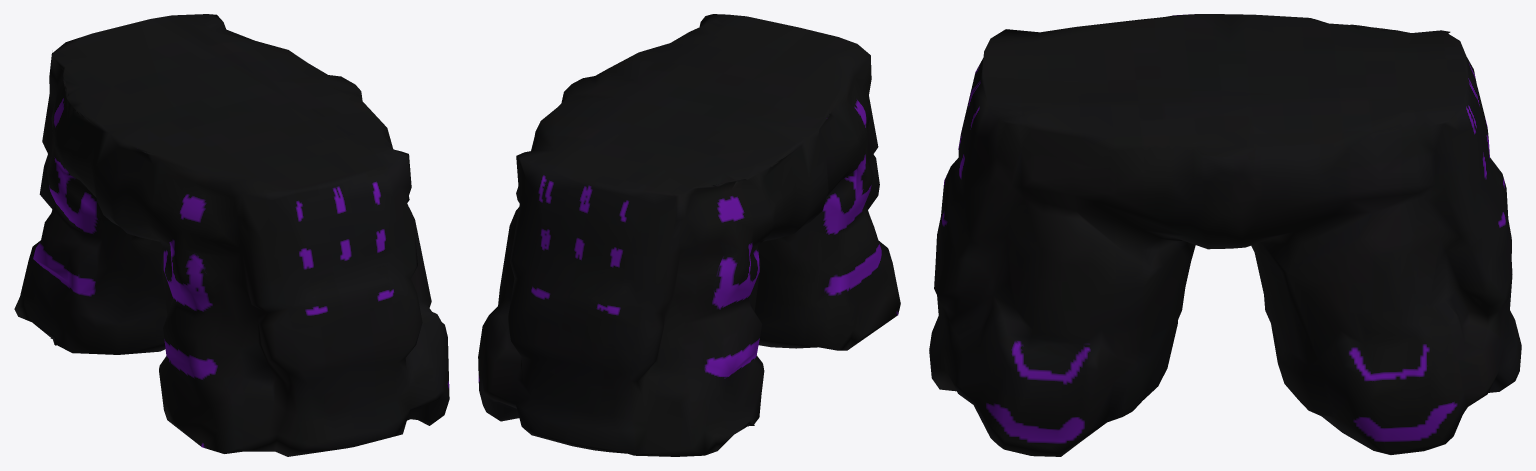
File: Legs.glb
3 views of the same model, side by side, from view 1: azimuth 30°, elevation 25°; view 2: azimuth 150°, elevation 25°; view 3: azimuth 270°, elevation 25° (orthographic). The views are drawn at different scales.
Visible parts, largest first — view 1: Legs; view 2: Legs; view 3: Legs.
Part boxes in pixels (x1,y1,x2,y2): Legs: (14, 14, 449, 456); Legs: (478, 14, 900, 456); Legs: (929, 14, 1521, 456).
Bounding box in the file's own units: 0.04 × 0.0414 × 0.0689.
Materials: 1 (1 with a texture image).
